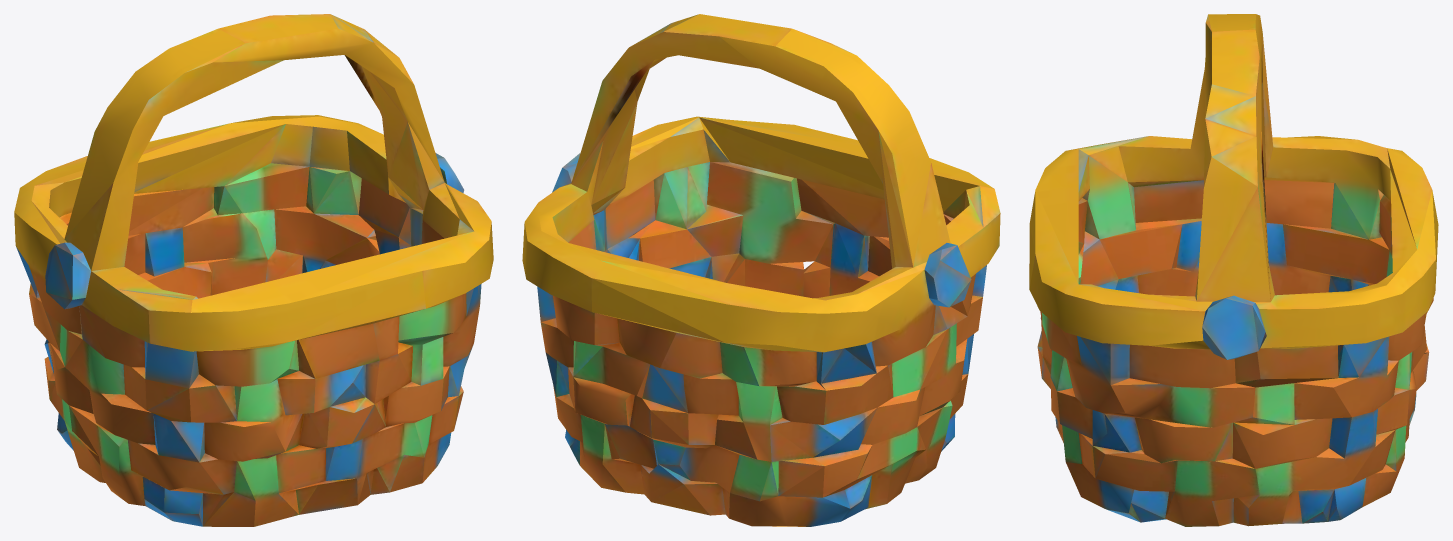
The model's file is basket.glb.
3 renders of one model, left to right at view 1: azimuth 30°, elevation 25°; view 2: azimuth 150°, elevation 25°; view 3: azimuth 270°, elevation 25°, orthographic.
Bounding box in the file's own units: 1.85 × 1.89 × 1.67.
1 material, 1 textured.
